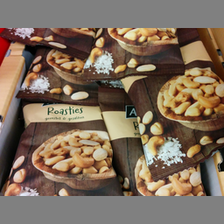nuts: (117, 39, 224, 175), (2, 101, 124, 196)
